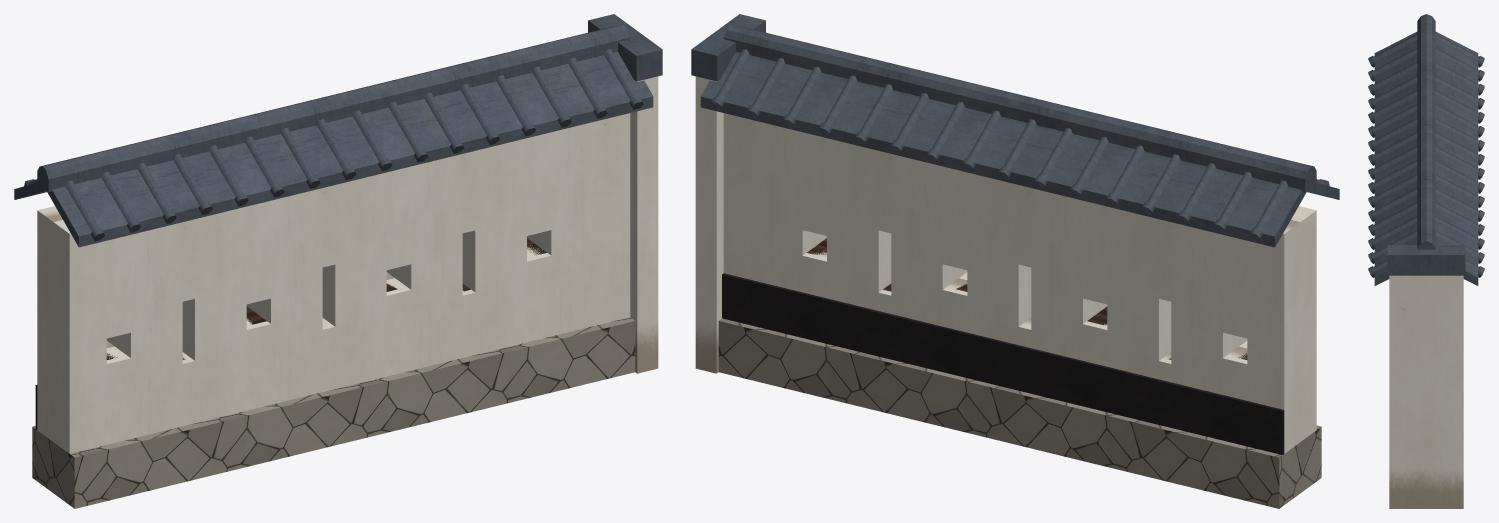
The model's file is HO_Wall_Castle_End_16.fbx.
3 renders of one model, left to right at view 1: azimuth 30°, elevation 25°; view 2: azimuth 150°, elevation 25°; view 3: azimuth 270°, elevation 25°, orthographic. The views are drawn at different scales.
Visible parts, largest first — view 1: HO_Wall_Castle_End_16__Plaster_White, HO_Wall_Castle_End_16__RoofTile_Clay, HO_Wall_Castle_End_16__Stone_Fitted; view 2: HO_Wall_Castle_End_16__Plaster_White, HO_Wall_Castle_End_16__RoofTile_Clay, HO_Wall_Castle_End_16__Stone_Fitted, HO_Wall_Castle_End_16__Black_Lacquer; view 3: HO_Wall_Castle_End_16__RoofTile_Clay, HO_Wall_Castle_End_16__Plaster_White.
Boxes of the visible parts, left/top/right/bottom form: HO_Wall_Castle_End_16__Plaster_White: left=37, top=76, right=658, bottom=453; HO_Wall_Castle_End_16__RoofTile_Clay: left=14, top=14, right=662, bottom=247; HO_Wall_Castle_End_16__Stone_Fitted: left=32, top=317, right=635, bottom=508; HO_Wall_Castle_End_16__Plaster_White: left=695, top=76, right=1316, bottom=453; HO_Wall_Castle_End_16__RoofTile_Clay: left=691, top=14, right=1339, bottom=247; HO_Wall_Castle_End_16__Stone_Fitted: left=718, top=318, right=1321, bottom=508; HO_Wall_Castle_End_16__Black_Lacquer: left=722, top=273, right=1284, bottom=454; HO_Wall_Castle_End_16__RoofTile_Clay: left=1368, top=14, right=1484, bottom=285; HO_Wall_Castle_End_16__Plaster_White: left=1389, top=275, right=1463, bottom=508.
Size of the model in its own units: 17 by 8.99 by 3.59.
